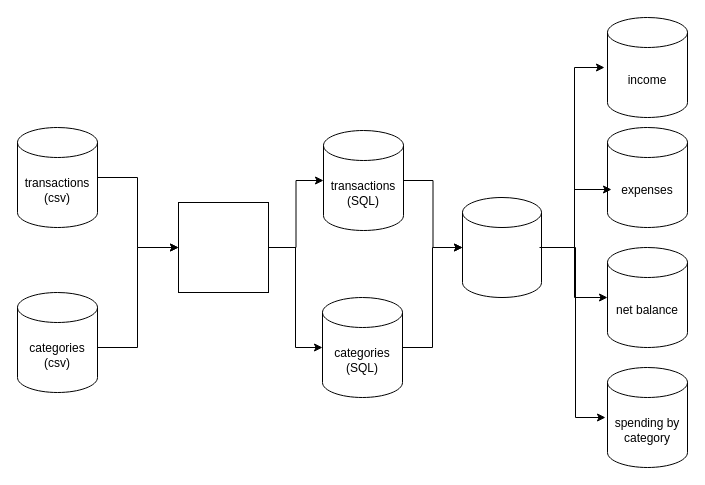
The diagram is 705 pixels wide and 485 high, and some of its shapes have lost their labels. The centre of each missing label's shape, as x and y in pixels:
"Ingest" goes at point 223,247.
"transactions agg (SQL)" goes at point 502,247.
